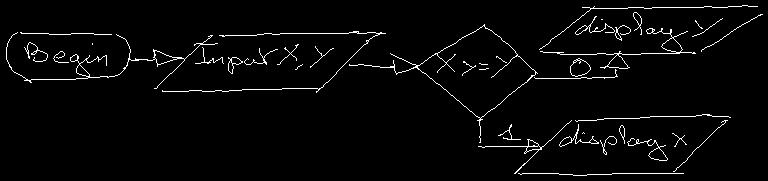arrow: (534, 51, 629, 78), (478, 119, 541, 153), (349, 53, 417, 74), (129, 49, 183, 66)
data: (154, 31, 385, 92), (514, 114, 730, 175), (539, 5, 762, 54)
decision: (413, 24, 537, 120)
terminator: (6, 32, 130, 82)
text: (575, 12, 722, 52), (559, 124, 686, 160), (194, 43, 333, 73), (24, 42, 106, 76), (435, 53, 517, 77), (570, 58, 590, 76), (498, 124, 520, 139)
